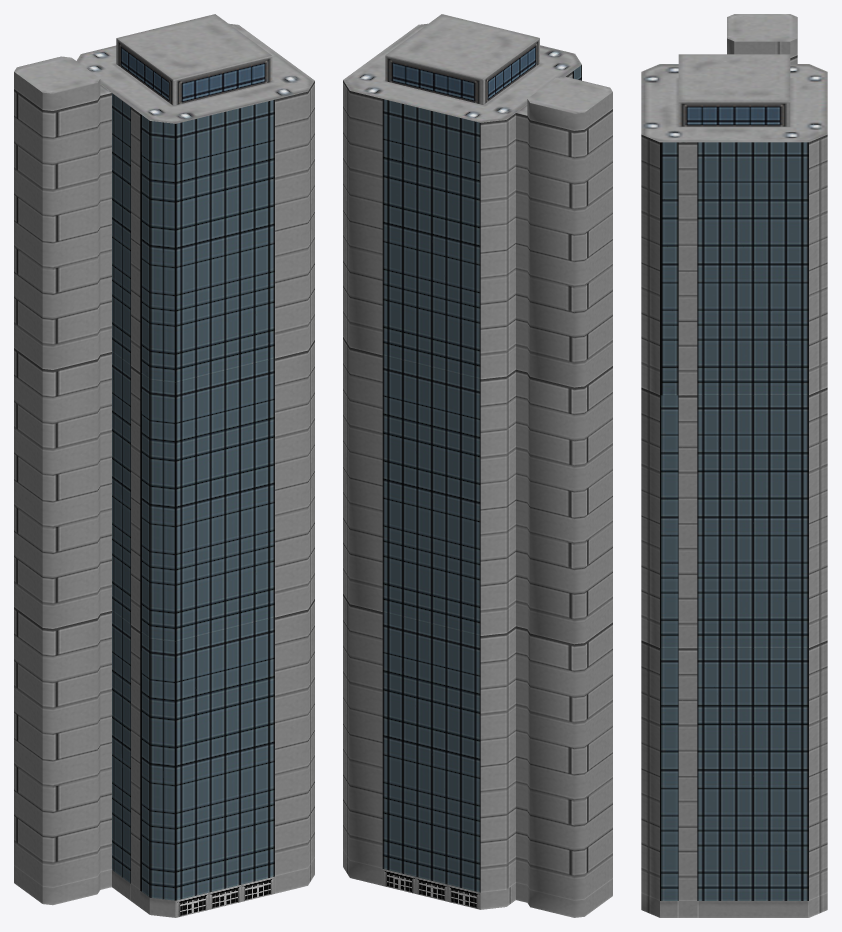
Rendered from skyscrap19.glb.
3 views of the same model, side by side, from view 1: azimuth 30°, elevation 25°; view 2: azimuth 150°, elevation 25°; view 3: azimuth 270°, elevation 25° (orthographic). The views are drawn at different scales.
Parts seen in each view (by area): view 1: sk19; view 2: sk19; view 3: sk19.
Boxes of the visible parts, x1=… form: sk19: x1=14, y1=14, x2=314, y2=917; sk19: x1=343, y1=14, x2=612, y2=917; sk19: x1=641, y1=14, x2=827, y2=917.
Size of the model in its own units: 15.78 by 52.77 by 11.11.
1 material, 1 textured.
